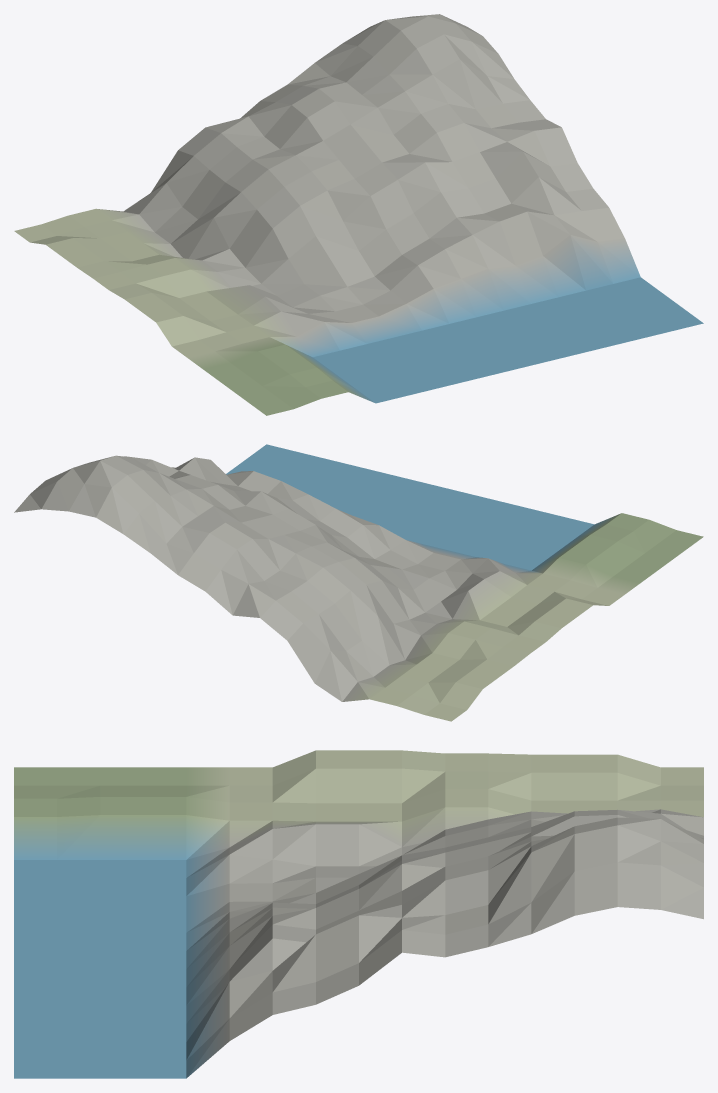
3 views of the same model, one above another, from view 1: azimuth 30°, elevation 25°; view 2: azimuth 150°, elevation 25°; view 3: azimuth 270°, elevation 25° (orthographic). The views are drawn at different scales.
Bounding box in the file's own units: 32 × 11.09 × 32.
